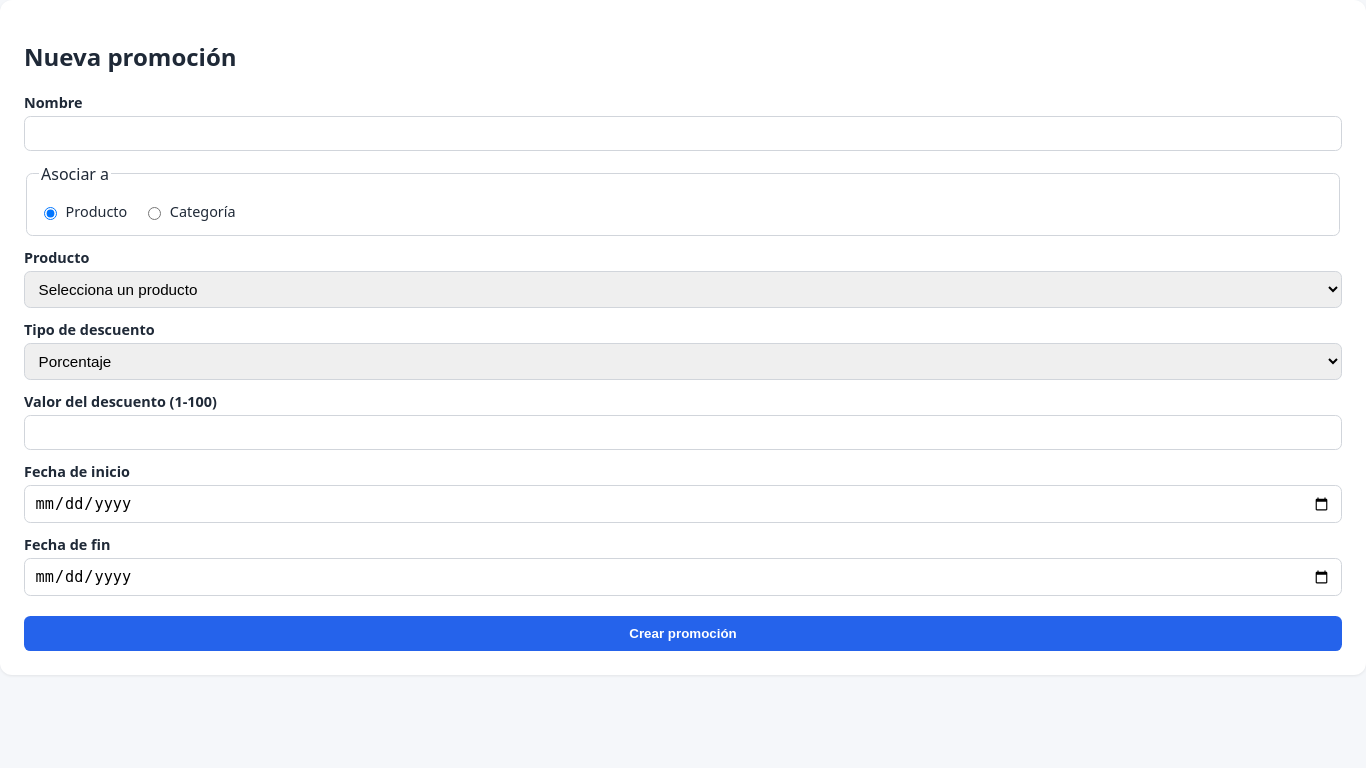
Test: PromotionForm › muestra el mensaje de error del servidor cuando la creación falla
This screenshot has width=1366, height=768.
In the field labelled "Nombre": [683, 133] box x1=24 y1=116 x2=1342 y2=151, type "Promo Test"
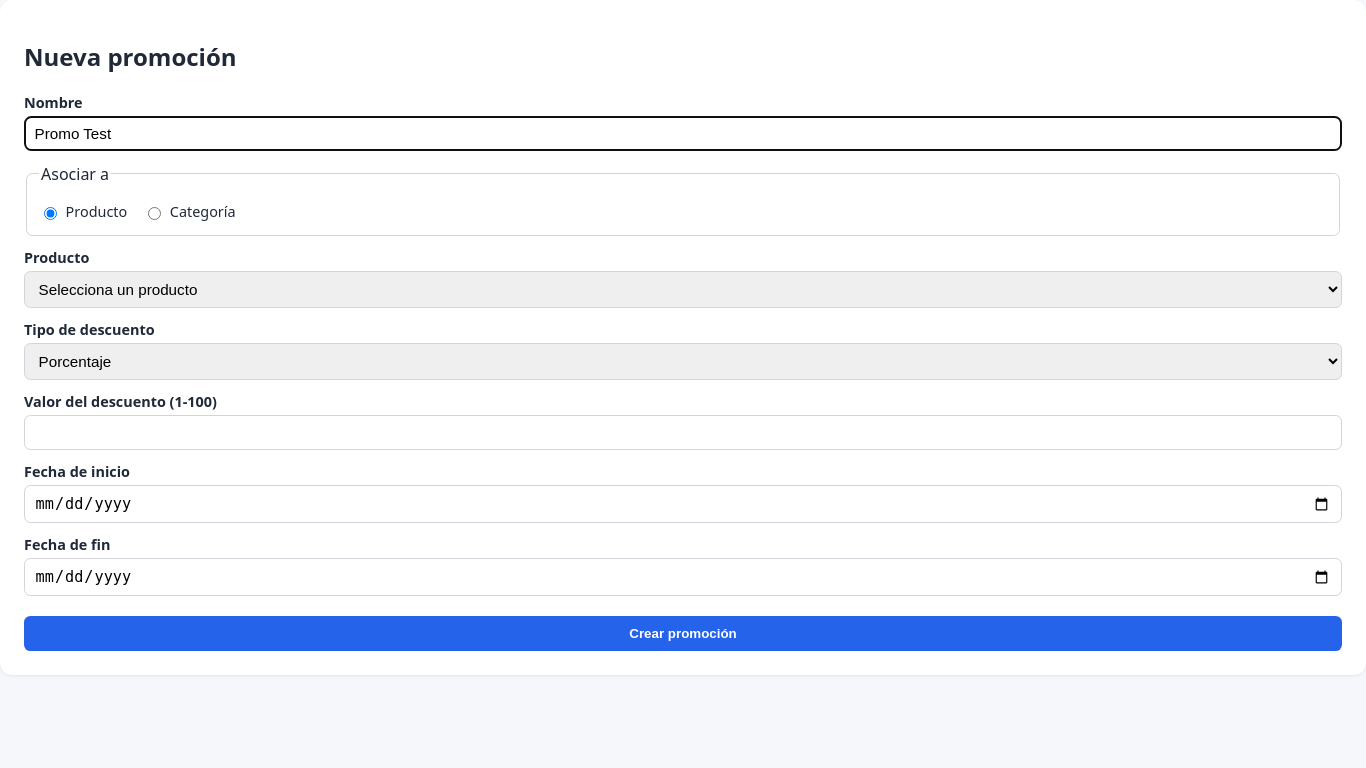
Select "Producto 1" in the dropdown labelled "Producto": [683, 290] box x1=24 y1=271 x2=1342 y2=308
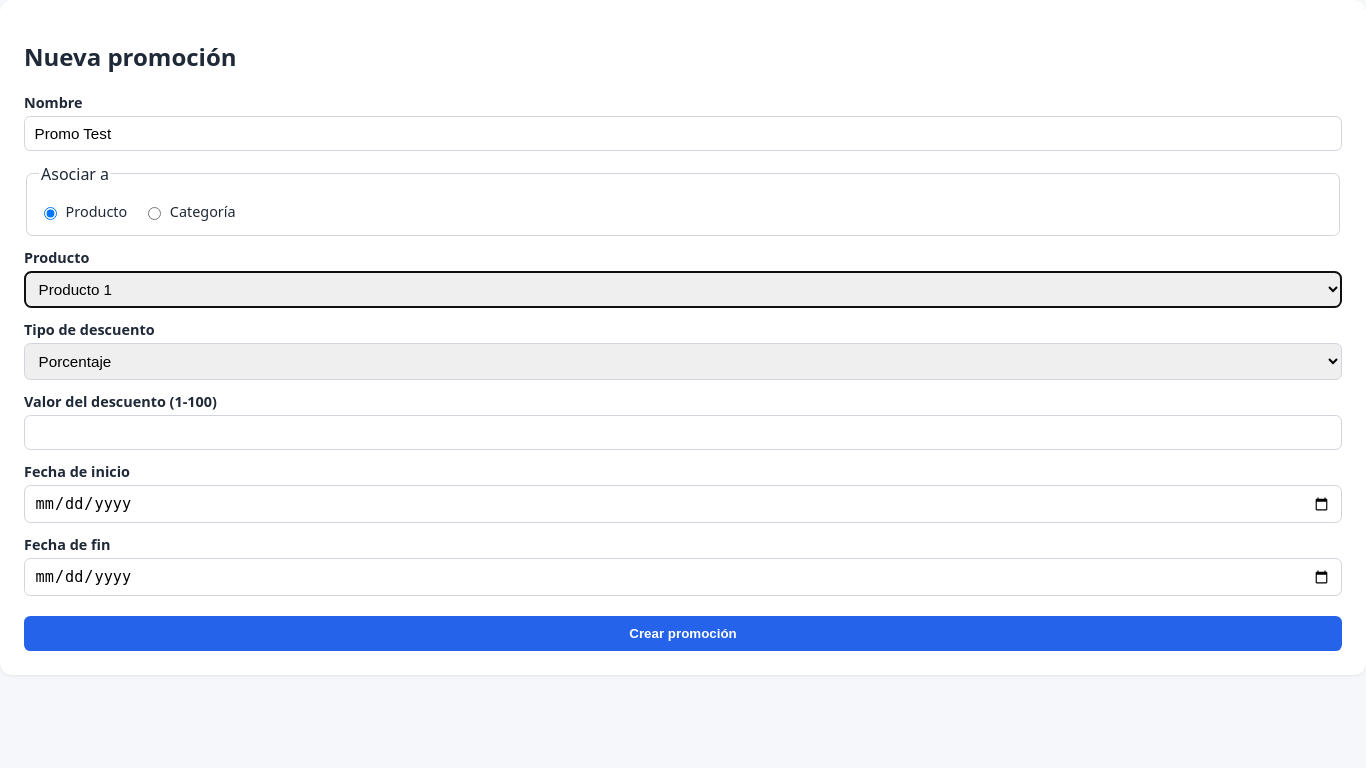
In the number field labelled "Valor del descuento (1-100)": [683, 433] box x1=24 y1=415 x2=1342 y2=450, type "10"
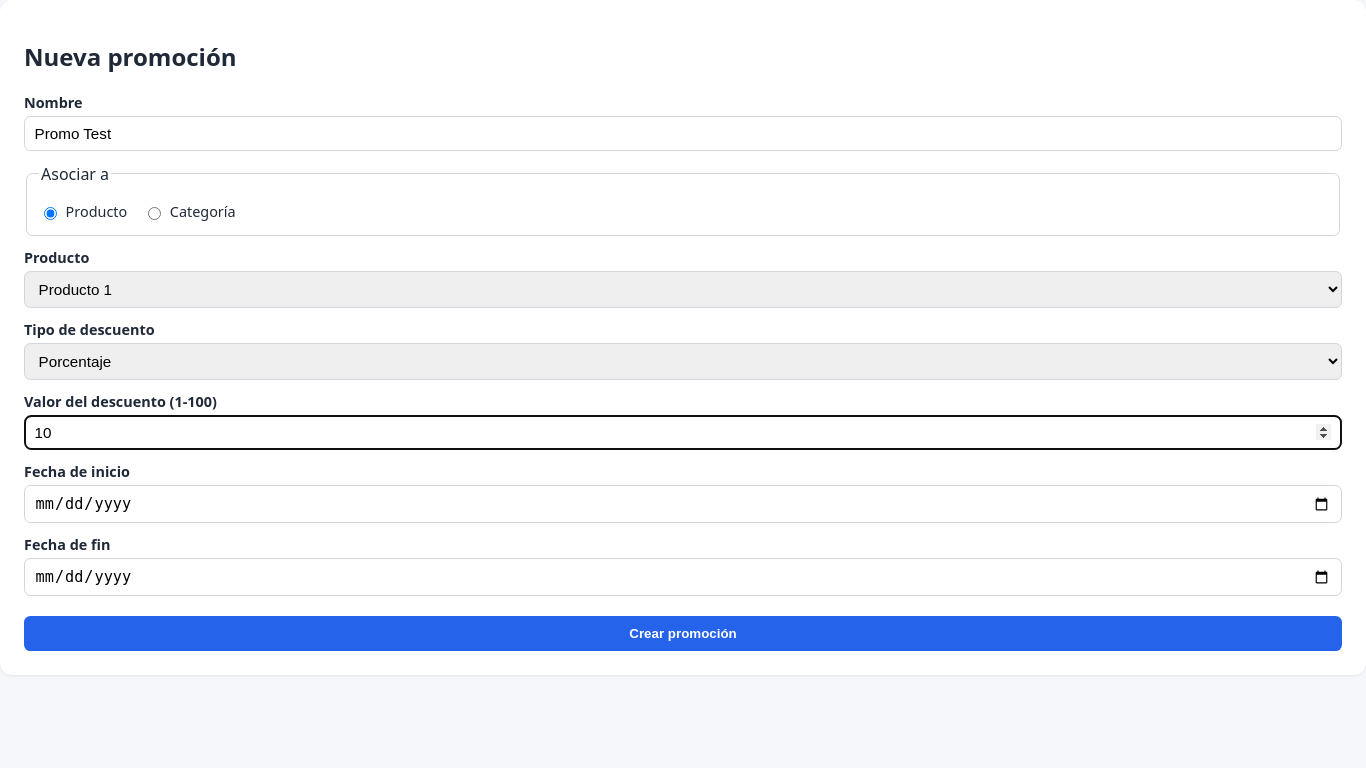
In the date field labelled "Fecha de inicio": [683, 504] box x1=24 y1=485 x2=1342 y2=523, type "2026-02-10"
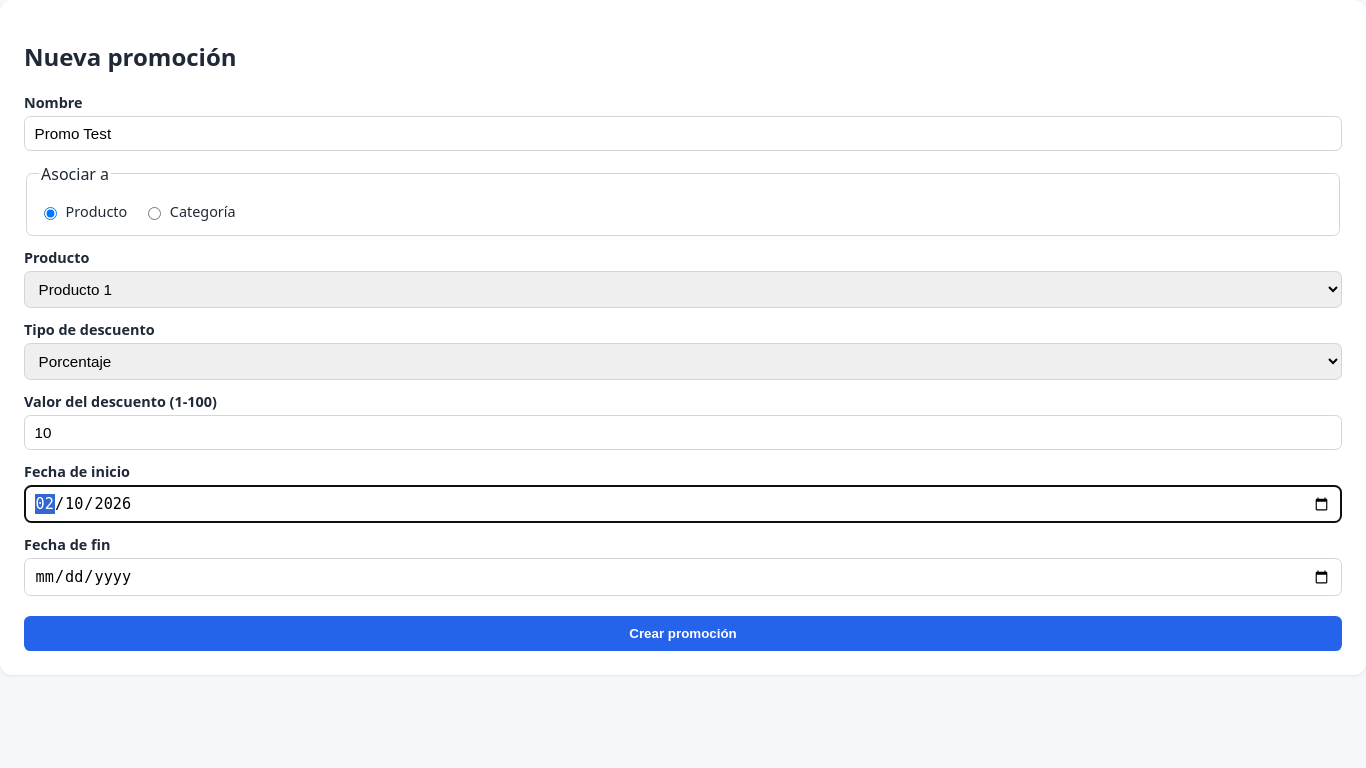
In the date field labelled "Fecha de fin": [683, 577] box x1=24 y1=558 x2=1342 y2=596, type "2026-02-01"
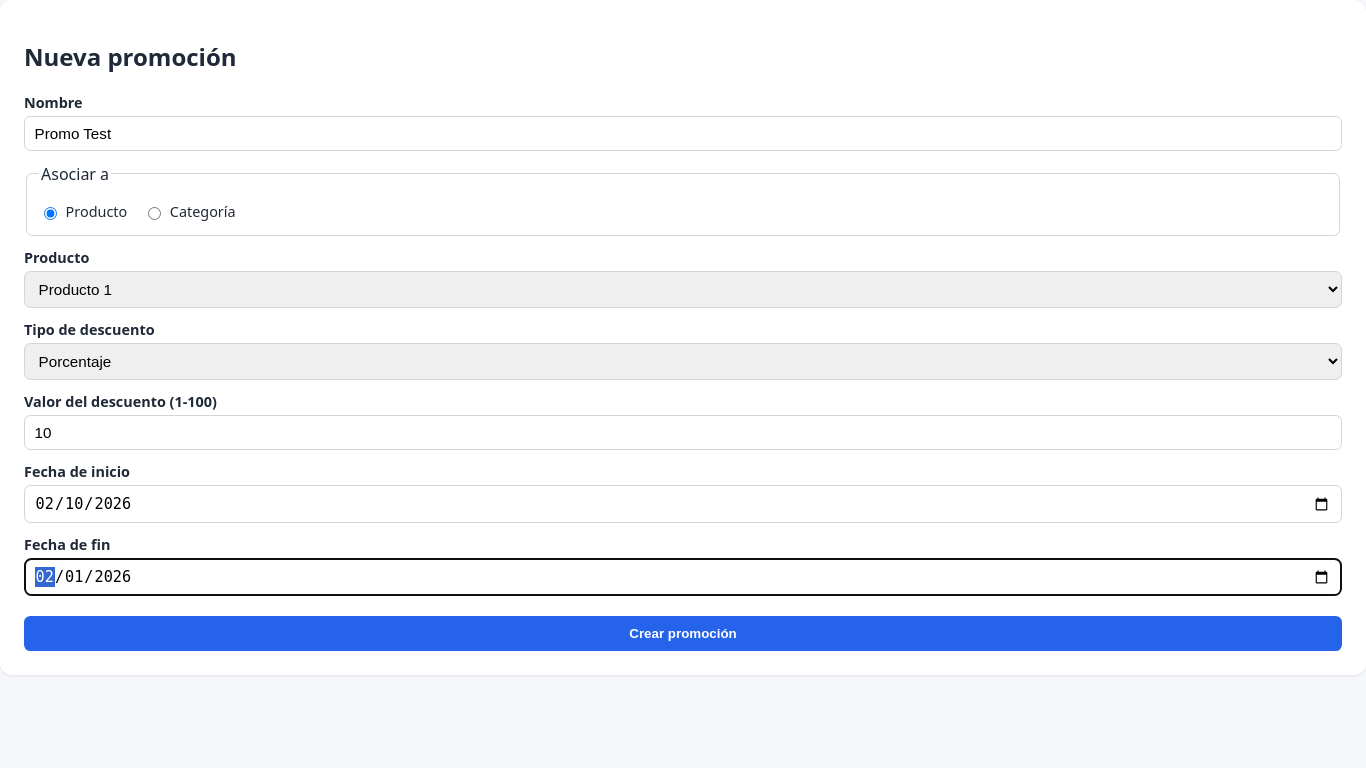
Click the button "Crear promoción": [683, 634] box x1=24 y1=616 x2=1342 y2=651
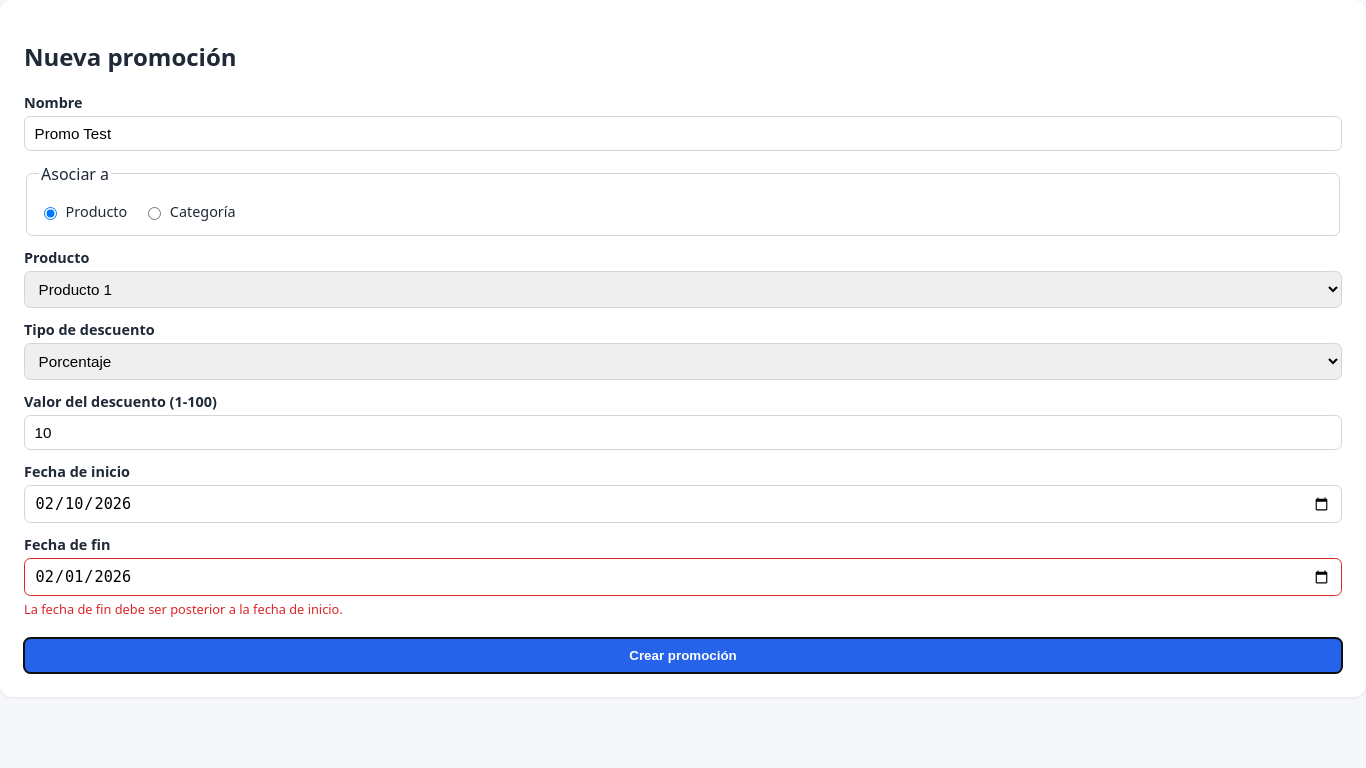
expect the text "La fecha de fin debe ser posterior a la fecha de inicio." is shown: met, box x1=24 y1=600 x2=343 y2=618
